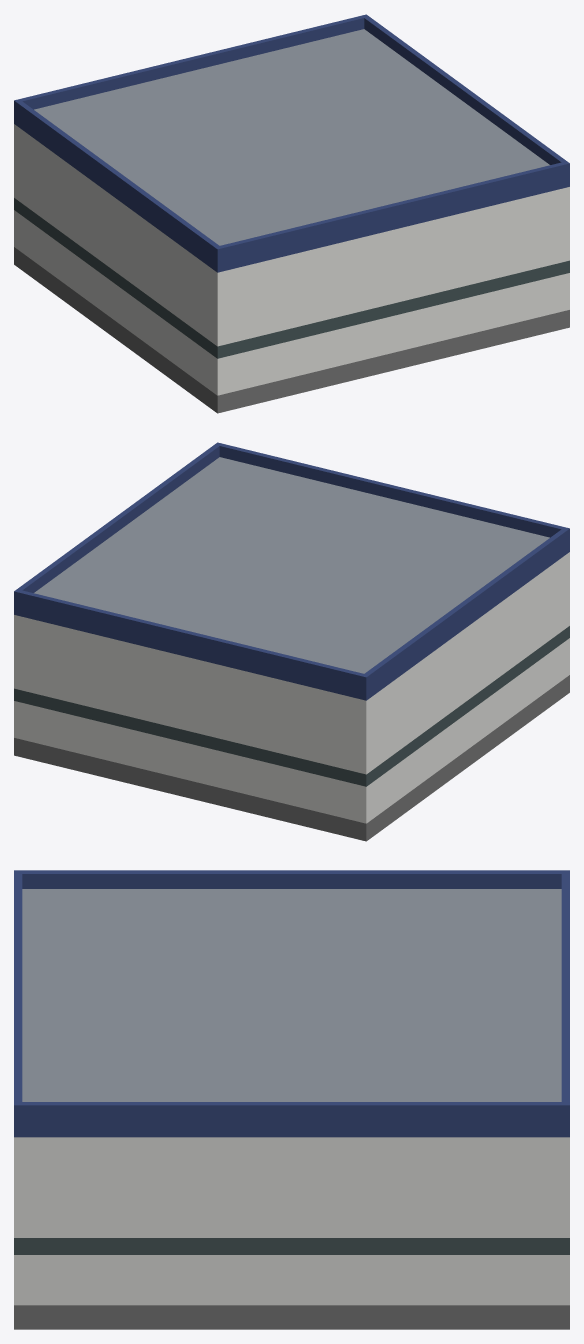
The model's file is far.fbx.
The picture shows the model from 3 angles, top to bottom: view 1: azimuth 30°, elevation 25°; view 2: azimuth 150°, elevation 25°; view 3: azimuth 270°, elevation 25°; orthographic projection. The views are drawn at different scales.
Parts seen in each view (by area): view 1: a2013/200/far; view 2: a2013/200/far; view 3: a2013/200/far.
Boxes of the visible parts, x1,y1,x2,y2 form: a2013/200/far: (14,14,569,413); a2013/200/far: (14,442,569,841); a2013/200/far: (14,870,569,1329).
Size of the model in its own units: 20 by 8.9 by 20.
